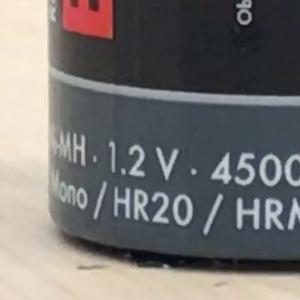keyword: (105, 185, 202, 228)
